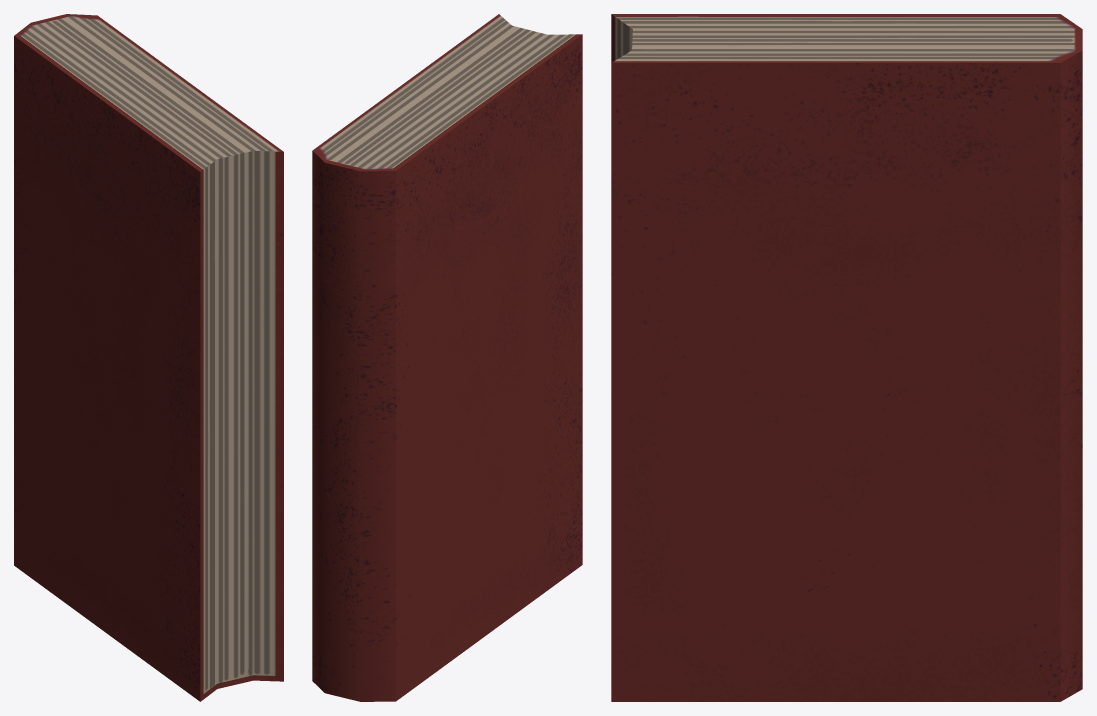
The model's file is RedBook_exp.fbx.
3 renders of one model, left to right at view 1: azimuth 30°, elevation 25°; view 2: azimuth 150°, elevation 25°; view 3: azimuth 270°, elevation 25°, orthographic. The views are drawn at different scales.
Parts seen in each view (by area): view 1: pCube2; view 2: pCube2; view 3: pCube2.
Part boxes in pixels (x1,y1,x2,y2): pCube2: [14, 14, 283, 701]; pCube2: [312, 14, 582, 701]; pCube2: [611, 14, 1082, 701].
Size of the model in its own units: 0.3412 by 2.07 by 1.38.
1 material, 1 textured.
